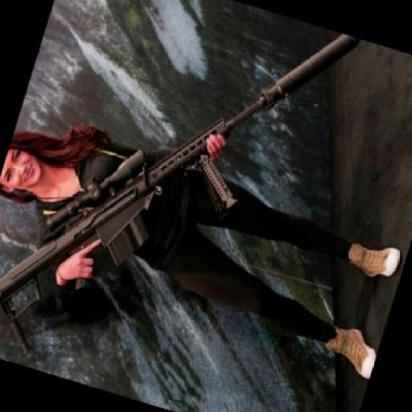Gun: (0, 0, 366, 412)
